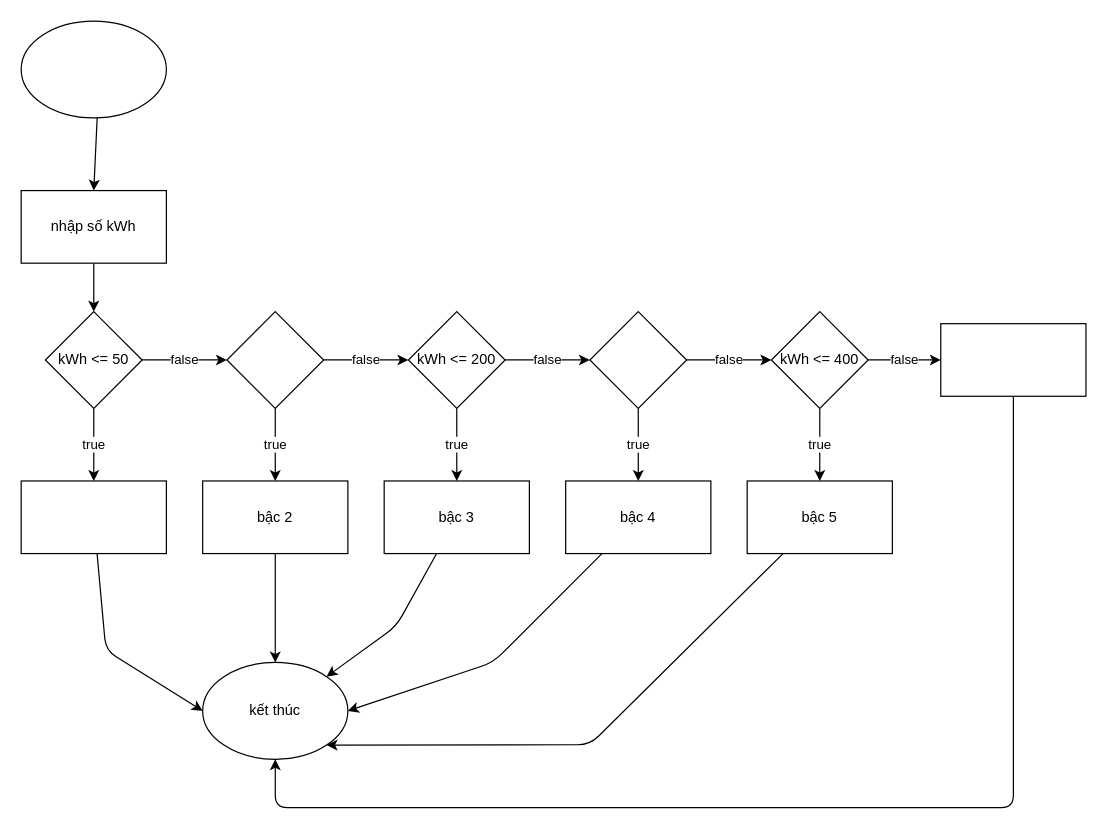
Some shapes in this 1107 by 839 pixel diagram are drawn without their labels. Each missing label, with the centre of its shape:
"bậc 1" goes at point (93, 517).
"bậc 6" goes at point (1013, 359).
"bắt đầu" goes at point (93, 69).
"kWh <= 100" goes at point (275, 359).
"kWh <= 300" goes at point (638, 359).
